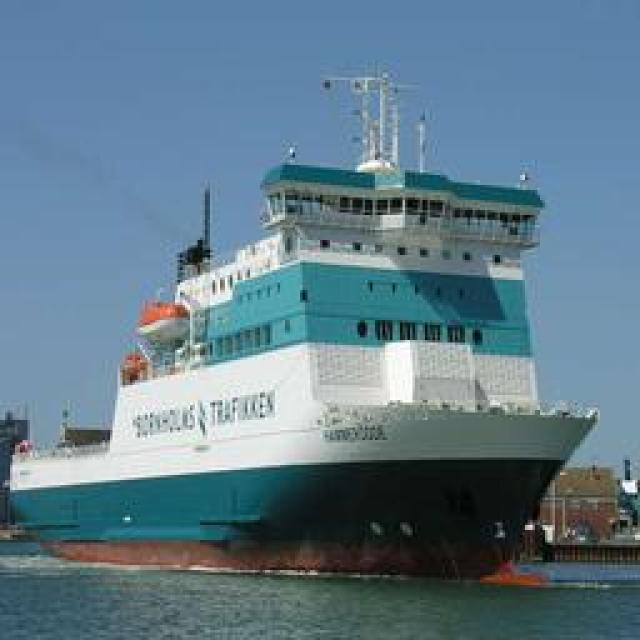ship2: (1, 73, 602, 584)
